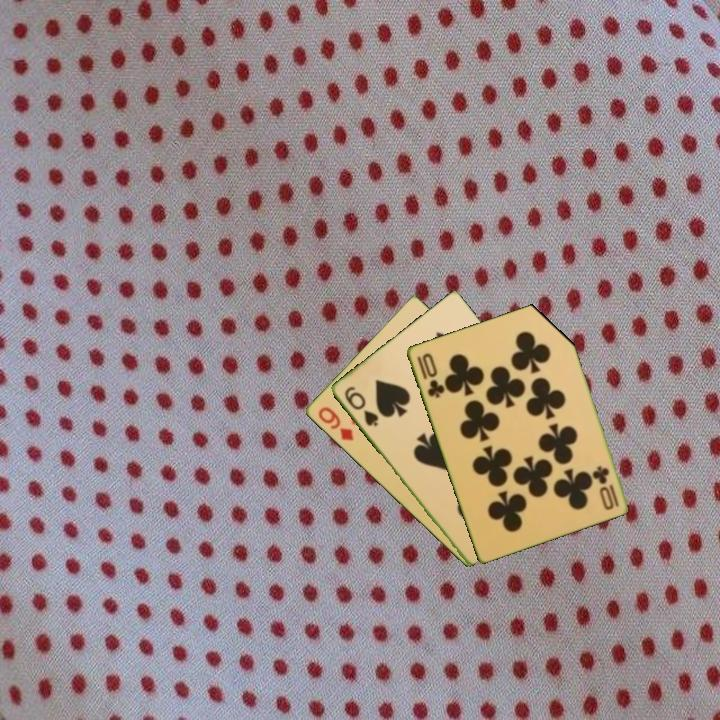10c: (413, 349, 447, 401), (590, 462, 622, 510)
6s: (340, 383, 381, 429)
9d: (314, 403, 356, 444)
